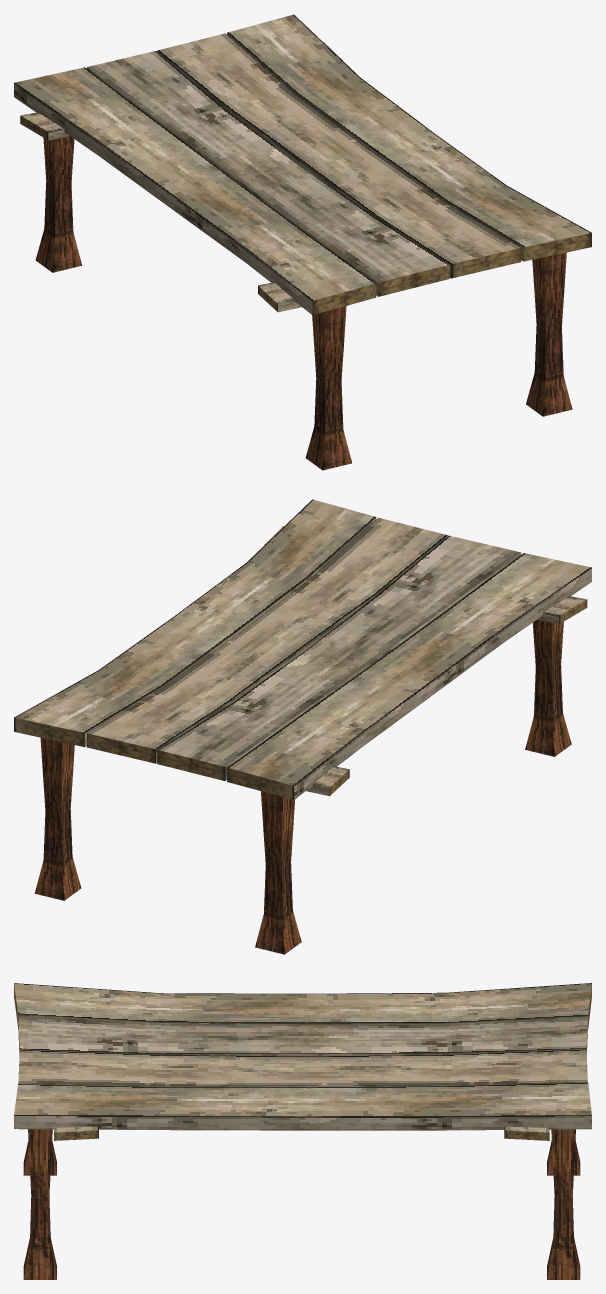
Rendered from INST_SWORDLIGHT_LG_TABLE.fbx.
3 views of the same model, one above another, from view 1: azimuth 30°, elevation 25°; view 2: azimuth 150°, elevation 25°; view 3: azimuth 270°, elevation 25° (orthographic). The views are drawn at different scales.
Visible parts, largest first — view 1: INST_SWORDLIGHT_LG_TABLE; view 2: INST_SWORDLIGHT_LG_TABLE; view 3: INST_SWORDLIGHT_LG_TABLE.
Part boxes in pixels (x1,y1,x2,y2): INST_SWORDLIGHT_LG_TABLE: (14,14,591,470); INST_SWORDLIGHT_LG_TABLE: (14,499,591,954); INST_SWORDLIGHT_LG_TABLE: (14,983,591,1279).
Bounding box in the file's own units: 14826 × 8272 × 25269.
3 materials, 3 textured.
